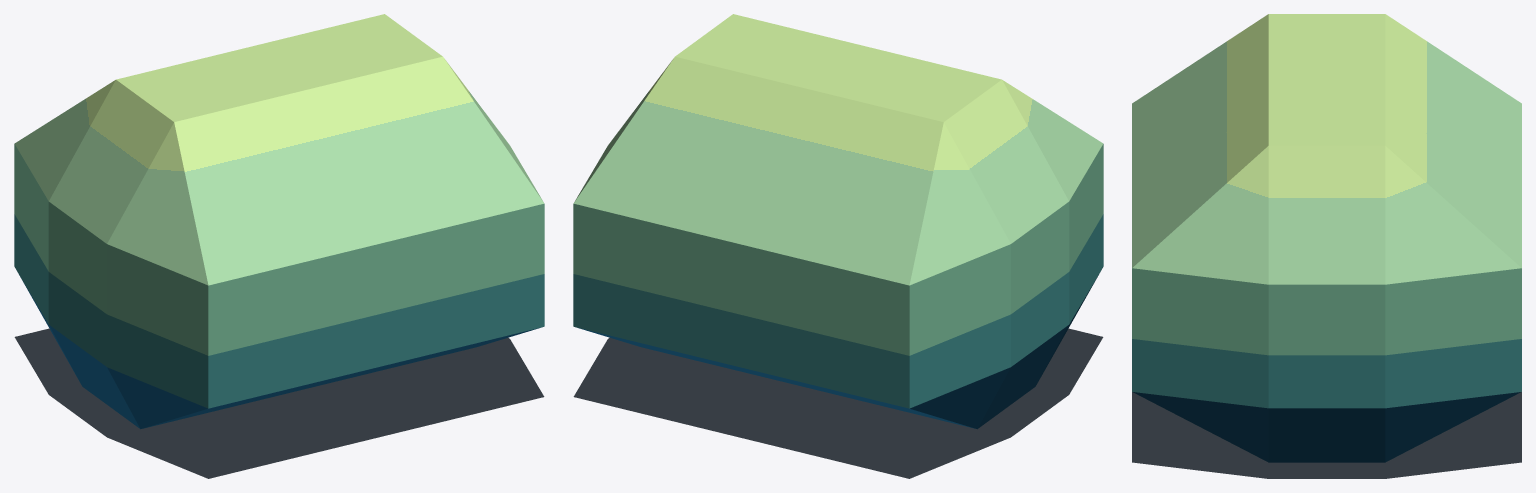
File: snake-body.obj
3 renders of one model, left to right at view 1: azimuth 30°, elevation 25°; view 2: azimuth 150°, elevation 25°; view 3: azimuth 270°, elevation 25°, orthographic.
Visible parts, largest first — view 1: Cube; view 2: Cube; view 3: Cube.
Boxes of the visible parts, left/top/right/bottom form: Cube: left=14, top=14, right=544, bottom=478; Cube: left=573, top=14, right=1103, bottom=478; Cube: left=1132, top=14, right=1521, bottom=478.
Size of the model in its own units: 2.4 by 1.7 by 2.
Materials: 1 (1 with a texture image).
